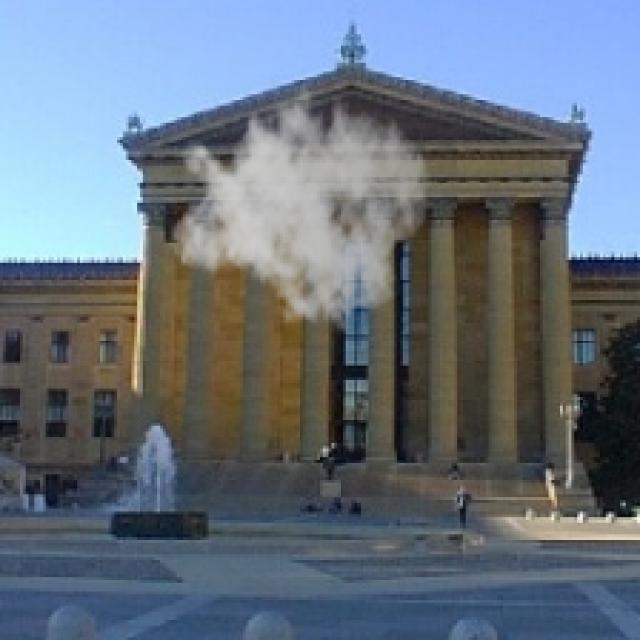Smoke: (168, 68, 432, 334)
